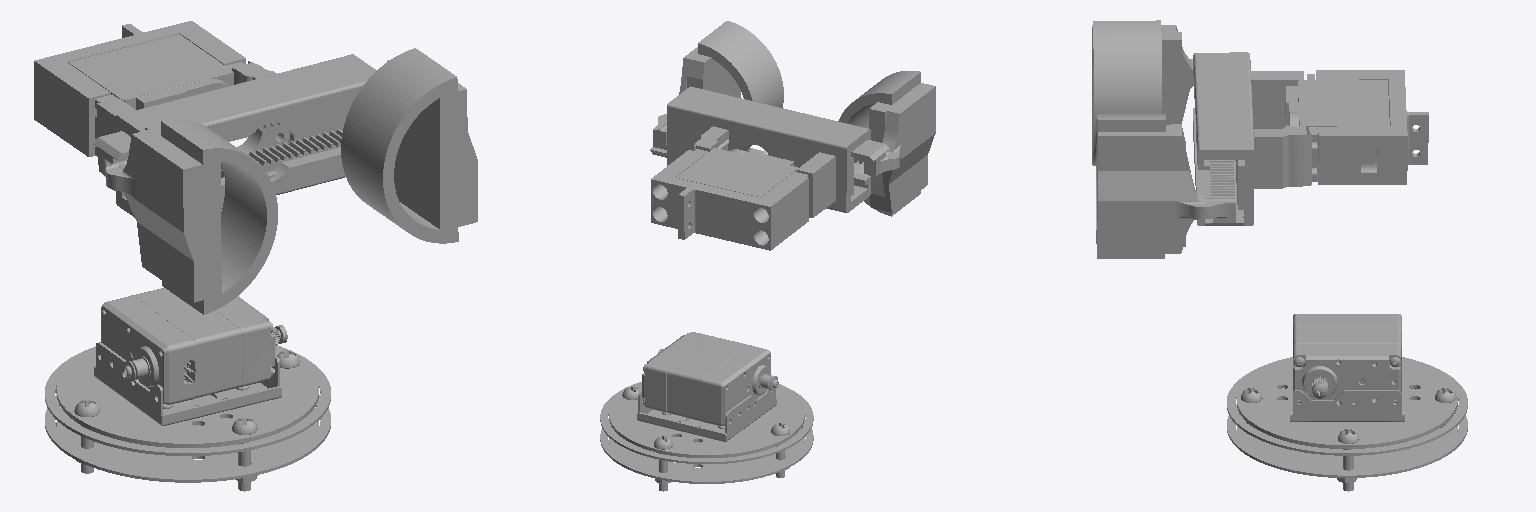
URDF robot description (Hiwonder):
<?xml version="1.0"?>
<robot name="Hiwonder">

    <link name="base_link">
      <visual>
        <origin xyz="0 0 0" rpy="0 0 0" />
        <geometry>
          <mesh filename="meshes/base_link.stl" scale="0.001 0.001 0.001" />
        </geometry>
        <material name="silver">
          <color rgba="0.70000000 0.70000000 0.70000000 1.00000000"/>
        </material>
      </visual>
      <collision>
        <origin xyz="0 0.055 0.041623" rpy="0 0 0" />
        <geometry>
          <cylinder radius="0.057168" length="0.073" />
        </geometry>
      </collision>
      <inertial>
        <origin xyz="0.0000011 0.0926086 0.030564" rpy="0 0 0" />
        <mass value="1.5251097" />
        <inertia ixx="0.008261" ixy="0" ixz="0" iyy="0.002907" iyz="0.001105" izz="0.009107" />
      </inertial>
    </link>

    <link name="second_link_1">
      <visual>
        <origin xyz="0 -0.056304 -0.060801" rpy="0 0 0" />
        <geometry>
          <mesh filename="meshes/second_link_1.stl" scale="0.001 0.001 0.001" />
        </geometry>
        <material name="silver">
          <color rgba="0.70000000 0.70000000 0.70000000 1.00000000"/>
        </material>
      </visual>
      <inertial>
        <origin xyz="0.0015156 0.0000018 0.0248094" rpy="0 0 0" />
        <mass value="0.3790901" />
        <inertia ixx="0.000161" ixy="0" ixz="-0.000006" iyy="0.00016" iyz="0" izz="0.000201" />
      </inertial>
    </link>

    <link name="sixth_link_1">
      <visual>
        <origin xyz="0.004904 -0.303181 -0.097772" rpy="0 0 0" />
        <geometry>
          <mesh filename="meshes/sixth_link_1.stl" scale="0.001 0.001 0.001" />
        </geometry>
        <material name="silver">
          <color rgba="0.70000000 0.70000000 0.70000000 1.00000000"/>
        </material>
      </visual>
      <collision>
        <origin xyz="-0.005096 0.046819 0.002228" rpy="0 0 0" />
        <geometry>
          <box size="0.02 0.08 0.08" />
        </geometry>
      </collision>
      <inertial>
        <origin xyz="0.0001561 0.0464351 -0.0051604" rpy="0 0 0" />
        <mass value="0.5747761" />
        <inertia ixx="0.000539" ixy="-0.000001" ixz="-0.000001" iyy="0.000275" iyz="-0.000053" izz="0.000338" />
      </inertial>
    </link>

    <link name="fourth_link_1">
      <visual>
        <origin xyz="0.02878 -0.150304 -0.095854" rpy="0 0 0" />
        <geometry>
          <mesh filename="meshes/fourth_link_1.stl" scale="0.001 0.001 0.001" />
        </geometry>
        <material name="silver">
          <color rgba="0.70000000 0.70000000 0.70000000 1.00000000"/>
        </material>
      </visual>
      <collision>
        <origin xyz="0.02878 0.039696 0" rpy="0 0 0" />
        <geometry>
          <box size="0.06 0.04 0.020001" />
        </geometry>
      </collision>
      <inertial>
        <origin xyz="0.0294151 0.0235062 0.0000293" rpy="0 0 0" />
        <mass value="0.2923903" />
        <inertia ixx="0.000208" ixy="-0.000002" ixz="0" iyy="0.000081" iyz="0" izz="0.000266" />
      </inertial>
    </link>

    <link name="fifth_link_1">
      <visual>
        <origin xyz="0.03018 -0.238894 -0.095884" rpy="0 0 0" />
        <geometry>
          <mesh filename="meshes/fifth_link_1.stl" scale="0.001 0.001 0.001" />
        </geometry>
        <material name="silver">
          <color rgba="0.70000000 0.70000000 0.70000000 1.00000000"/>
        </material>
      </visual>
      <collision>
        <origin xyz="0.02018 0.025 0.014116" rpy="0 0 0" />
        <geometry>
          <box size="0.04 0.07 0.06" />
        </geometry>
      </collision>
      <inertial>
        <origin xyz="0.0248211 0.0199186 0.0099945" rpy="0 0 0" />
        <mass value="0.2938034" />
        <inertia ixx="0.000201" ixy="0.000006" ixz="0.000001" iyy="0.000102" iyz="0.000001" izz="0.000168" />
      </inertial>
    </link>

    <link name="third_link_1">
      <visual>
        <origin xyz="-0.02722 -0.046304 -0.095801" rpy="0 0 0" />
        <geometry>
          <mesh filename="meshes/third_link_1.stl" scale="0.001 0.001 0.001" />
        </geometry>
        <material name="silver">
          <color rgba="0.70000000 0.70000000 0.70000000 1.00000000"/>
        </material>
      </visual>
      <collision>
        <origin xyz="-0.02722 0.053696 0" rpy="0 0 0" />
        <geometry>
          <box size="0.06 0.11 0.02" />
        </geometry>
      </collision>
      <inertial>
        <origin xyz="-0.0276988 0.0519751 0.0000265" rpy="0 0 0" />
        <mass value="0.1622625" />
        <inertia ixx="0.000203" ixy="0" ixz="0" iyy="0.000102" iyz="0" izz="0.00029" />
      </inertial>
    </link>

    <link name="left_finger_1">
      <visual>
        <origin xyz="0.092407 -0.696929 -0.082481" rpy="0 0 0" />
        <geometry>
          <mesh filename="meshes/left_finger_1.stl" scale="0.001 0.001 0.001" />
        </geometry>
        <material name="silver">
          <color rgba="0.70000000 0.70000000 0.70000000 1.00000000"/>
        </material>
      </visual>
      <inertial>
        <origin xyz="0.0904459 -0.2952924 -0.0241035" rpy="0 0 0" />
        <mass value="0.0169058" />
        <inertia ixx="0.000007" ixy="0.000001" ixz="0" iyy="0.000005" iyz="0.000002" izz="0.000006" />
      </inertial>
    </link>

    <link name="right_finger_1">
      <visual>
        <origin xyz="0.092508 -0.697452 -0.059787" rpy="0 0 0" />
        <geometry>
          <mesh filename="meshes/right_finger_1.stl" scale="0.001 0.001 0.001" />
        </geometry>
        <material name="silver">
          <color rgba="0.70000000 0.70000000 0.70000000 1.00000000"/>
        </material>
      </visual>
      <inertial>
        <origin xyz="0.0854796 -0.297355 0.0810765" rpy="0 0 0" />
        <mass value="0.0169058" />
        <inertia ixx="0.000007" ixy="-0.000001" ixz="0" iyy="0.000005" iyz="-0.000002" izz="0.000006" />
      </inertial>
    </link>

    <link name="left_silicone_1">
      <visual>
        <origin xyz="0.005817 -0.413582 -0.054025" rpy="0 0 0" />
        <geometry>
          <mesh filename="meshes/left_silicone_1.stl" scale="0.001 0.001 0.001" />
        </geometry>
        <material name="silver">
          <color rgba="0.70000000 0.70000000 0.70000000 1.00000000"/>
        </material>
      </visual>
      <collision>
        <origin xyz="0.005817 -0.413582 -0.054025" rpy="0 0 0" />
        <geometry>
          <mesh filename="meshes/left_silicone_1.stl" scale="0.001 0.001 0.001" />
        </geometry>
      </collision>
      <inertial>
        <origin xyz="0.0000469 -0.000204 0.0107647" rpy="0 0 0" />
        <mass value="0.0162585" />
        <inertia ixx="0.000002" ixy="0" ixz="0" iyy="0.000006" iyz="0" izz="0.000005" />
      </inertial>
    </link>

    <link name="right_ilicone_1">
      <visual>
        <origin xyz="0.003073 -0.411836 -0.145664" rpy="0 0 0" />
        <geometry>
          <mesh filename="meshes/right_ilicone_1.stl" scale="0.001 0.001 0.001" />
        </geometry>
        <material name="silver">
          <color rgba="0.70000000 0.70000000 0.70000000 1.00000000"/>
        </material>
      </visual>
      <collision>
        <origin xyz="0.003073 -0.411836 -0.145664" rpy="0 0 0" />
        <geometry>
          <mesh filename="meshes/right_ilicone_1.stl" scale="0.001 0.001 0.001" />
        </geometry>
      </collision>
      <inertial>
        <origin xyz="-0.0000471 0.0002043 -0.0107646" rpy="0 0 0" />
        <mass value="0.0162585" />
        <inertia ixx="0.000002" ixy="0" ixz="0" iyy="0.000006" iyz="0" izz="0.000005" />
      </inertial>
    </link>

  <joint name="Revolute 13" type="revolute">
    <parent link="base_link" />
    <child link="second_link_1" />
    <origin xyz="0 0.056304 0.060801" rpy="0 0 0" />
    <axis xyz="0 0 1" />
    <limit lower="-1.570796" upper="1.570796" effort="100" velocity="100" />
  </joint>

  <joint name="Revolute 19" type="revolute">
    <parent link="fifth_link_1" />
    <child link="sixth_link_1" />
    <origin xyz="0.025276 0.064287 0.001888" rpy="0 1.5707963 0" />
    <axis xyz="0 1 0" />
    <limit lower="0" upper="3.141593" effort="100" velocity="100" />
  </joint>

  <joint name="Revolute 34" type="revolute">
    <parent link="third_link_1" />
    <child link="fourth_link_1" />
    <origin xyz="-0.056 0.104 0.000053" rpy="1.5707963 0 0" />
    <axis xyz="-1 0 0" />
    <limit lower="0" upper="1.57079" effort="100" velocity="100" />
  </joint>

  <joint name="Revolute 35" type="revolute">
    <parent link="fourth_link_1" />
    <child link="fifth_link_1" />
    <origin xyz="-0.0014 0.08859 0.00003" rpy="1.5707963 0 0" />
    <axis xyz="-1 0 0" />
    <limit lower="0" upper="1.570796" effort="100" velocity="100" />
  </joint>

  <joint name="Revolute 36" type="revolute">
    <parent link="second_link_1" />
    <child link="third_link_1" />
    <origin xyz="0.02722 -0.01 0.035" rpy="0 0 0" />
    <axis xyz="1 0 0" />
    <limit lower="0" upper="3.141593" effort="100" velocity="100" />
  </joint>

  <joint name="Slider 37" type="prismatic">
    <parent link="sixth_link_1" />
    <child link="left_finger_1" />
    <origin xyz="-0.087503 0.393748 -0.015291" rpy="0 0 0" />
    <axis xyz="-0.00438 0.018937 -0.999811" />
    <limit lower="-0.01" upper="0.02" effort="100" velocity="100" />
  </joint>

  <joint name="Slider 38" type="prismatic">
    <parent link="sixth_link_1" />
    <child link="right_finger_1" />
    <origin xyz="-0.087604 0.394271 -0.037985" rpy="0 0 0" />
    <axis xyz="-0.00438 0.018937 -0.999811" />
    <limit lower="-0.02" upper="0.01" effort="100" velocity="100" />
    <mimic joint="Slider 37" multiplier="-1" offset="0" />
  </joint>

  <joint name="Rigid 39" type="fixed">
    <parent link="left_finger_1" />
    <child link="left_silicone_1" />
    <origin xyz="0.08659 -0.283347 -0.028456" rpy="0 0 0" />
  </joint>

  <joint name="Rigid 40" type="fixed">
    <parent link="right_finger_1" />
    <child link="right_ilicone_1" />
    <origin xyz="0.089435 -0.285616 0.085877" rpy="0 0 0" />
  </joint>

</robot>

--- What the picture shows (computed from the rendered views, not written in the file) ---
Views: 3 orthographic renders of the robot side by side, from view 1: azimuth 30°, elevation 25°; view 2: azimuth 150°, elevation 25°; view 3: azimuth 270°, elevation 25°.
Robot: Hiwonder — 10 links, 9 joints (5 revolute, 2 prismatic, 2 fixed); root link base_link; default pose: all joints at 0.
Links seen in each view (by area): view 1: second_link_1, sixth_link_1, left_finger_1, right_ilicone_1, left_silicone_1, right_finger_1; view 2: sixth_link_1, second_link_1, left_finger_1, right_ilicone_1, right_finger_1, left_silicone_1; view 3: second_link_1, sixth_link_1, right_finger_1, left_silicone_1, left_finger_1, right_ilicone_1.
Link boxes in pixels (left/top/right/bottom): second_link_1: left=45, top=288, right=330, bottom=491; sixth_link_1: left=34, top=21, right=376, bottom=217; left_finger_1: left=94, top=123, right=282, bottom=302; right_ilicone_1: left=341, top=48, right=458, bottom=243; left_silicone_1: left=161, top=119, right=277, bottom=314; right_finger_1: left=221, top=60, right=477, bottom=231; sixth_link_1: left=651, top=86, right=870, bottom=250; second_link_1: left=600, top=332, right=813, bottom=491; left_finger_1: left=851, top=83, right=935, bottom=212; right_ilicone_1: left=698, top=21, right=783, bottom=145; right_finger_1: left=650, top=47, right=760, bottom=157; left_silicone_1: left=838, top=71, right=920, bottom=216; second_link_1: left=1227, top=314, right=1467, bottom=491; sixth_link_1: left=1193, top=52, right=1428, bottom=225; right_finger_1: left=1097, top=124, right=1243, bottom=253; left_silicone_1: left=1092, top=20, right=1161, bottom=165; left_finger_1: left=1092, top=25, right=1193, bottom=152; right_ilicone_1: left=1096, top=114, right=1165, bottom=258.
Bounding box of the posed robot: 0.1132 × 0.1375 × 0.1526 m (x, y, z).
Meshes: 10 distinct files referenced, 6 mesh visuals loaded (6 binary STL); not drawn: 4 (reference not matched to a file when rendering).
